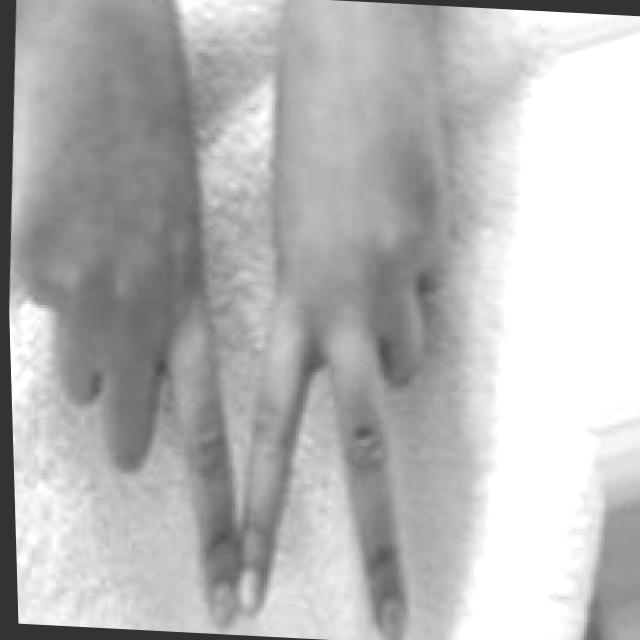N: (4, 138, 462, 640)
